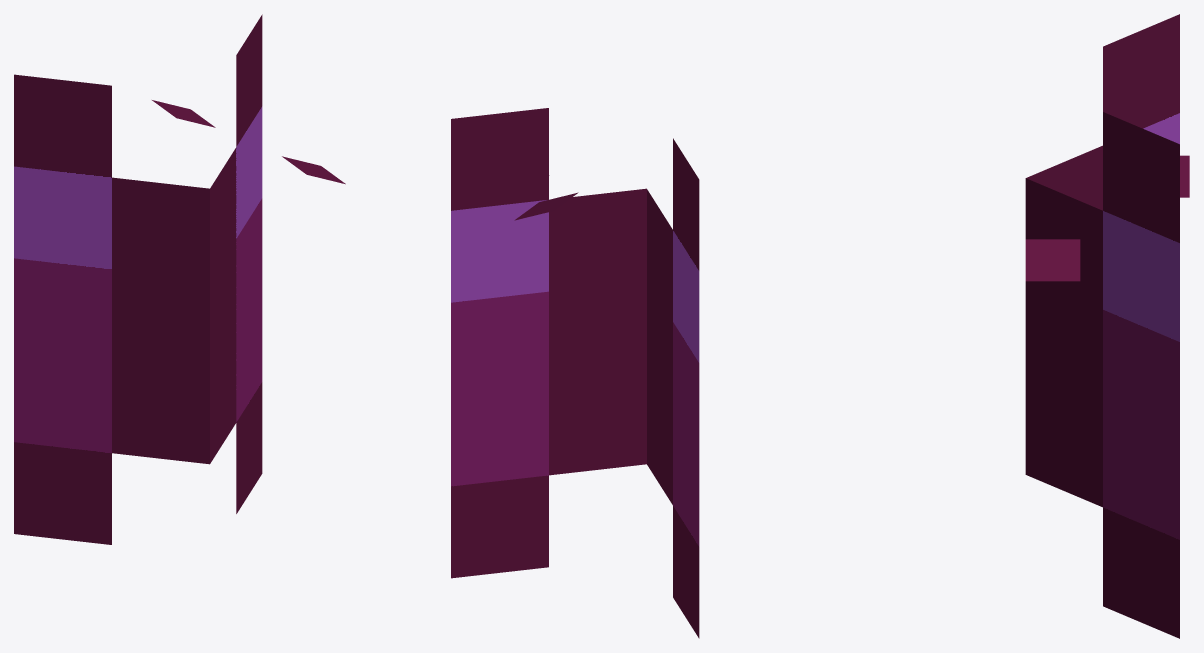
File: sullen_hydrangea_stage1.obj
The picture shows the model from 3 angles, left to right: view 1: azimuth 30°, elevation 25°; view 2: azimuth 150°, elevation 25°; view 3: azimuth 270°, elevation 25°; orthographic projection. The views are drawn at different scales.
Visible parts, largest first — view 1: cube_1, cube_0, cube_4; view 2: cube_0, cube_1; view 3: cube_0, cube_1, cube_4.
Part boxes in pixels (x1,y1,x2,y2): cube_1: [14, 74, 209, 544]; cube_0: [210, 14, 262, 513]; cube_4: [152, 100, 345, 184]; cube_0: [451, 108, 646, 578]; cube_1: [647, 138, 699, 638]; cube_0: [1025, 112, 1179, 638]; cube_1: [1026, 14, 1179, 210]; cube_4: [1025, 155, 1189, 281].
Size of the model in its own units: 0.3711 by 0.6274 by 0.3643.
